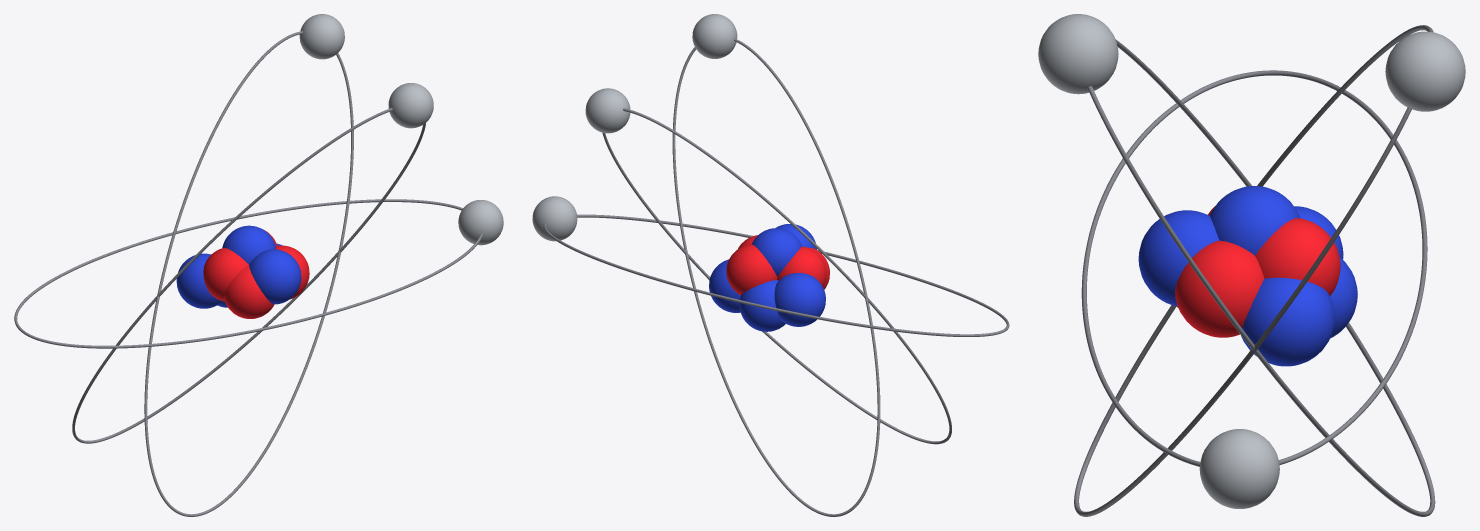
The model's file is Atom.glb.
3 renders of one model, left to right at view 1: azimuth 30°, elevation 25°; view 2: azimuth 150°, elevation 25°; view 3: azimuth 270°, elevation 25°, orthographic. The views are drawn at different scales.
Parts seen in each view (by area): view 1: Electron Orbit 2, Electron Orbit 1, Electron Orbit 3, Nucleus Particle.007, Electron 2, Electron 3, Electron 1, Nucleus Particle.003, Nucleus Particle, Nucleus Particle.004, Nucleus Particle.005; view 2: Electron Orbit 3, Electron Orbit 1, Electron Orbit 2, Nucleus Particle.004, Nucleus Particle.001, Electron 3, Electron 2, Electron 1, Nucleus Particle.008, Nucleus Particle.005, Nucleus Particle, Nucleus Particle.006; view 3: Electron Orbit 1, Nucleus Particle.006, Nucleus Particle.002, Electron Orbit 2, Electron Orbit 3, Electron 2, Electron 1, Electron 3, Nucleus Particle.007, Nucleus Particle.001, Nucleus Particle.005, Nucleus Particle.008 (+1 smaller).
Boxes of the visible parts, x1=… form: Electron Orbit 2: x1=144, y1=31, x2=353, y2=516; Electron Orbit 1: x1=14, y1=199, x2=483, y2=348; Electron Orbit 3: x1=72, y1=108, x2=425, y2=443; Nucleus Particle.007: x1=249, y1=249, x2=301, y2=304; Electron 2: x1=299, y1=14, x2=344, y2=59; Electron 3: x1=388, y1=83, x2=433, y2=128; Electron 1: x1=458, y1=200, x2=503, y2=245; Nucleus Particle.003: x1=224, y1=265, x2=274, y2=318; Nucleus Particle: x1=203, y1=248, x2=248, y2=301; Nucleus Particle.004: x1=176, y1=253, x2=222, y2=308; Nucleus Particle.005: x1=222, y1=225, x2=275, y2=264; Electron Orbit 3: x1=672, y1=38, x2=880, y2=516; Electron Orbit 1: x1=543, y1=214, x2=1009, y2=336; Electron Orbit 2: x1=602, y1=108, x2=951, y2=444; Nucleus Particle.004: x1=774, y1=273, x2=825, y2=326; Nucleus Particle.001: x1=726, y1=244, x2=777, y2=295; Electron 3: x1=692, y1=14, x2=737, y2=58; Electron 2: x1=585, y1=88, x2=630, y2=133; Electron 1: x1=532, y1=196, x2=577, y2=241; Nucleus Particle.008: x1=739, y1=280, x2=785, y2=331; Nucleus Particle.005: x1=752, y1=228, x2=801, y2=276; Nucleus Particle: x1=777, y1=246, x2=826, y2=286; Nucleus Particle.006: x1=709, y1=259, x2=740, y2=312; Electron Orbit 1: x1=1081, y1=70, x2=1427, y2=466; Nucleus Particle.006: x1=1241, y1=277, x2=1334, y2=366; Nucleus Particle.002: x1=1175, y1=240, x2=1264, y2=337; Electron Orbit 2: x1=1074, y1=25, x2=1433, y2=516; Electron Orbit 3: x1=1087, y1=39, x2=1435, y2=516; Electron 2: x1=1385, y1=31, x2=1465, y2=111; Electron 1: x1=1199, y1=429, x2=1279, y2=508; Electron 3: x1=1038, y1=14, x2=1118, y2=94; Nucleus Particle.007: x1=1138, y1=210, x2=1219, y2=306; Nucleus Particle.001: x1=1255, y1=218, x2=1340, y2=295; Nucleus Particle.005: x1=1210, y1=186, x2=1300, y2=255; Nucleus Particle.008: x1=1330, y1=257, x2=1357, y2=338.
Size of what is drawn, in the model's own units: 6.79 by 5.15 by 2.98.
